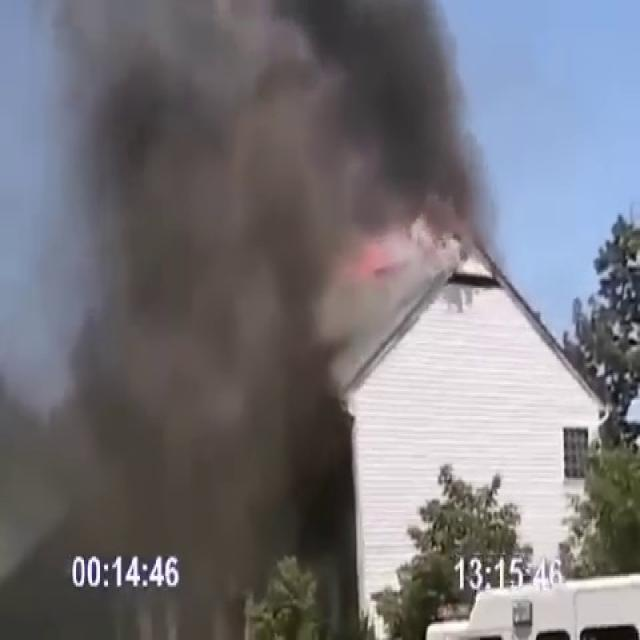Smoke: (9, 0, 489, 613)
